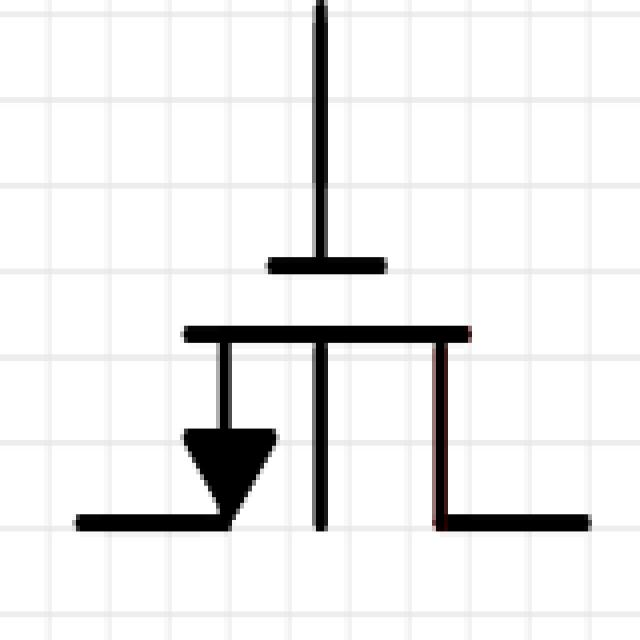pmos: (102, 32, 578, 599)
